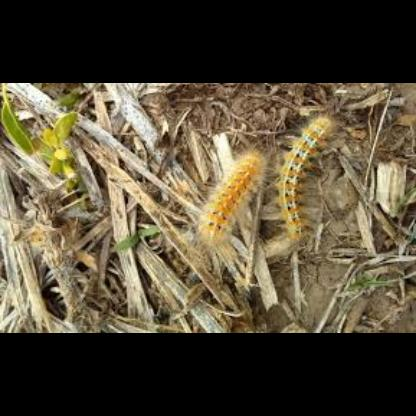oruga: (278, 118, 340, 240), (200, 150, 270, 234)
